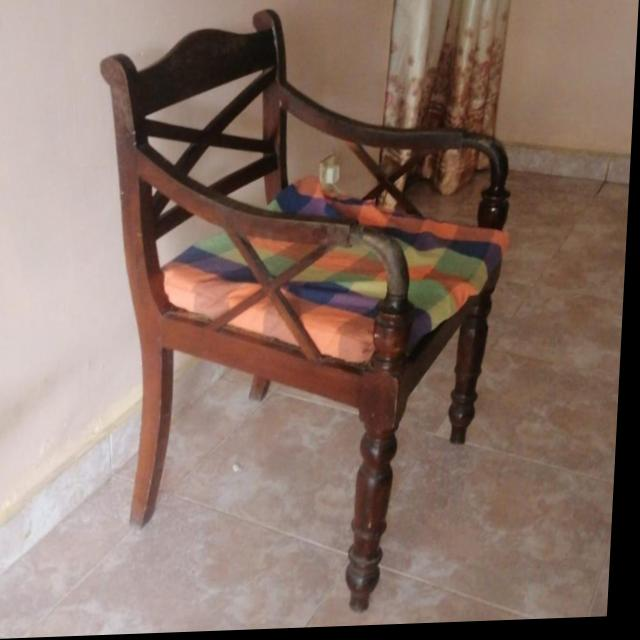Chair: (79, 4, 519, 625)
